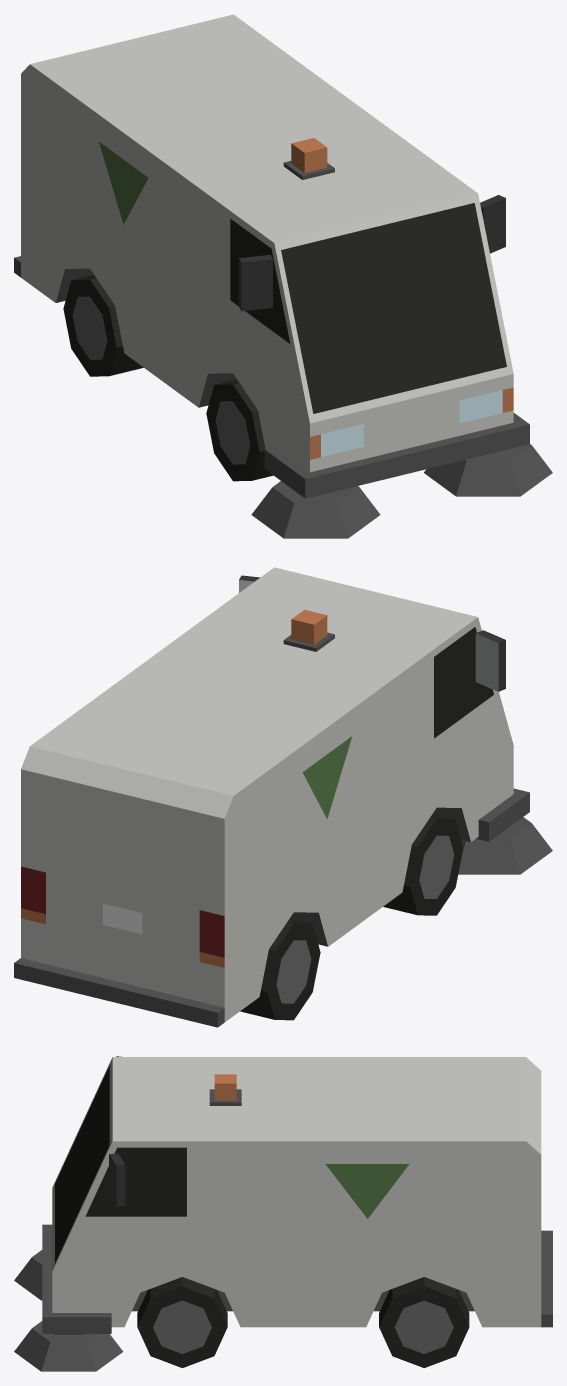
Rendered from Veh_Sweeper.obj.
The picture shows the model from 3 angles, top to bottom: view 1: azimuth 30°, elevation 25°; view 2: azimuth 150°, elevation 25°; view 3: azimuth 270°, elevation 25°; orthographic projection. The views are drawn at different scales.
Size of the model in its own units: 1.17 by 1.21 by 2.4.
